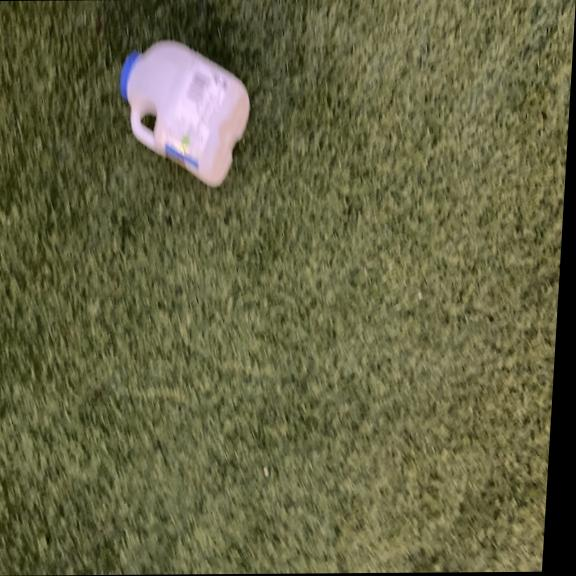Plastik: (112, 29, 257, 185)
